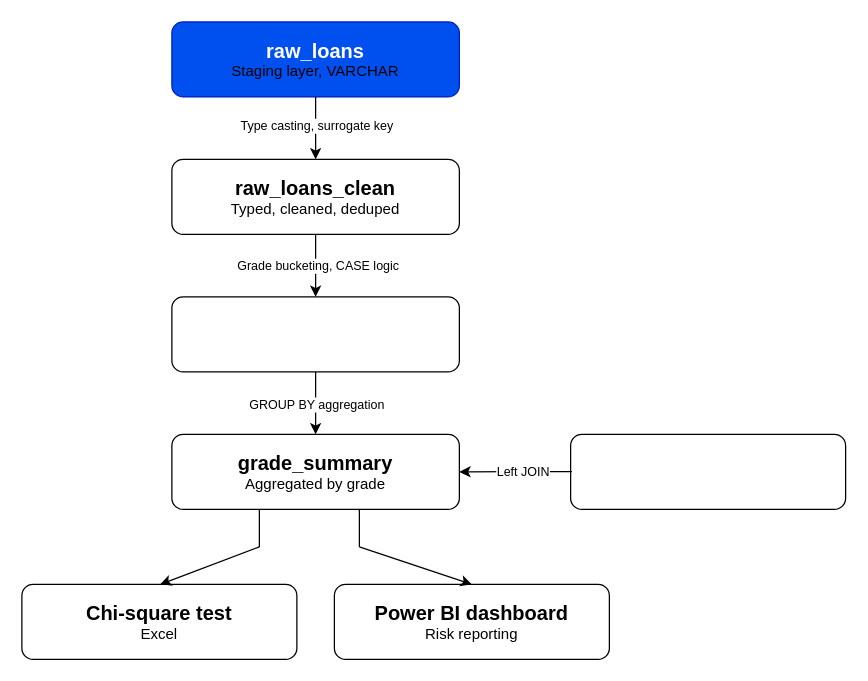
This 868x681 diagram has some shape labels left out. Each missing label, with the box of its shape:
ranked_view CTEs, window functions: (171, 296, 459, 372)
risk_grade_mapping Grade to risk weight: (569, 433, 846, 509)
